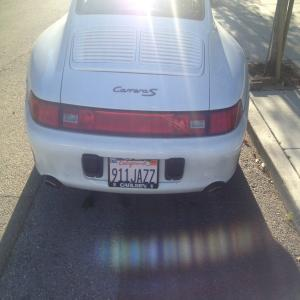Vehicle-registration-plate: (110, 159, 161, 189)
